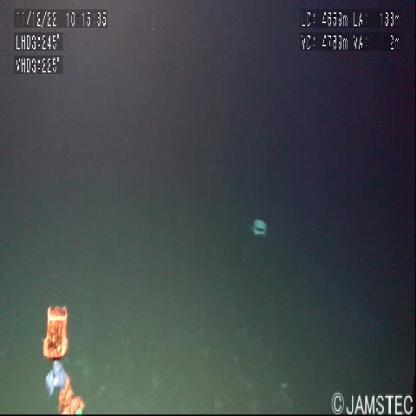Rác: (251, 219, 269, 239)
